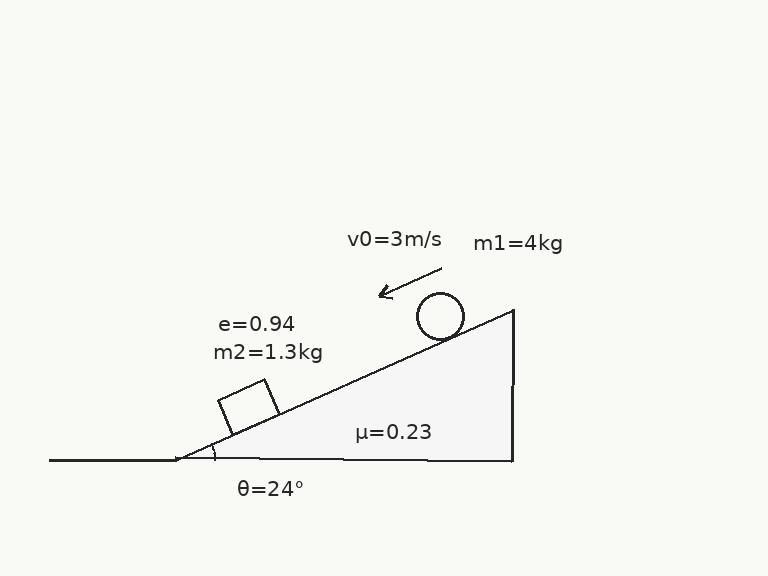ball: (414, 290, 466, 342)
block: (216, 377, 281, 436)
ramp: (173, 308, 514, 462)
